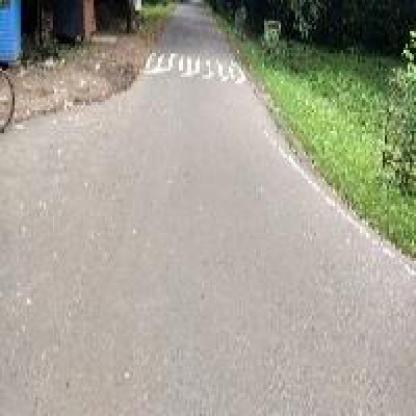Speed Bump: (146, 48, 245, 83)
